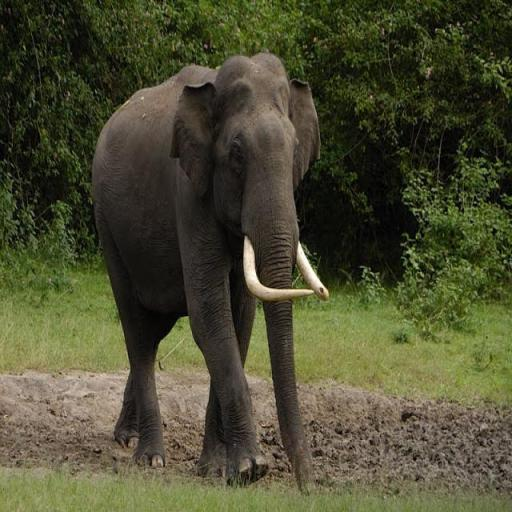Elephant: (90, 50, 330, 496)
